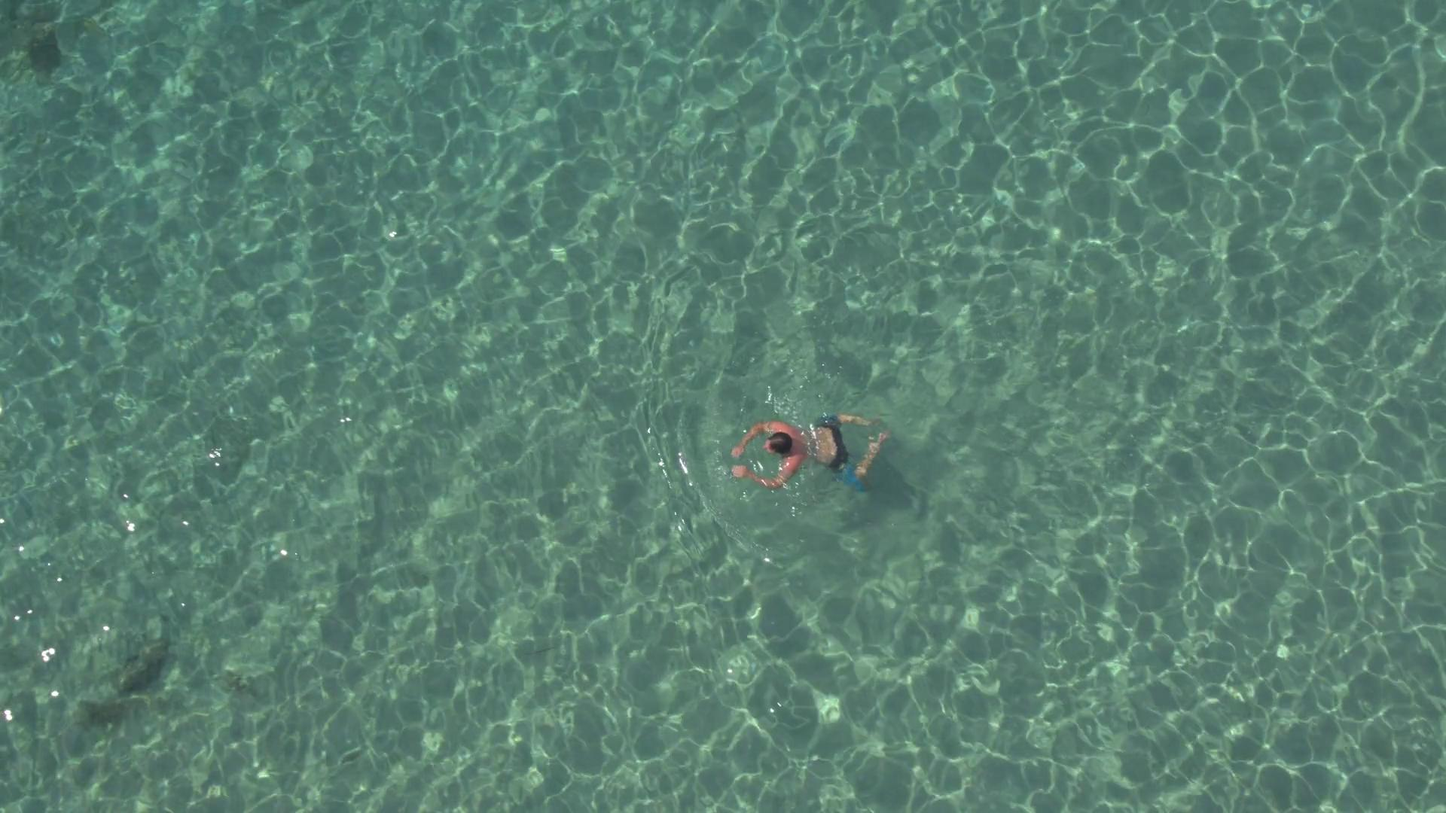human: (724, 414, 886, 493)
